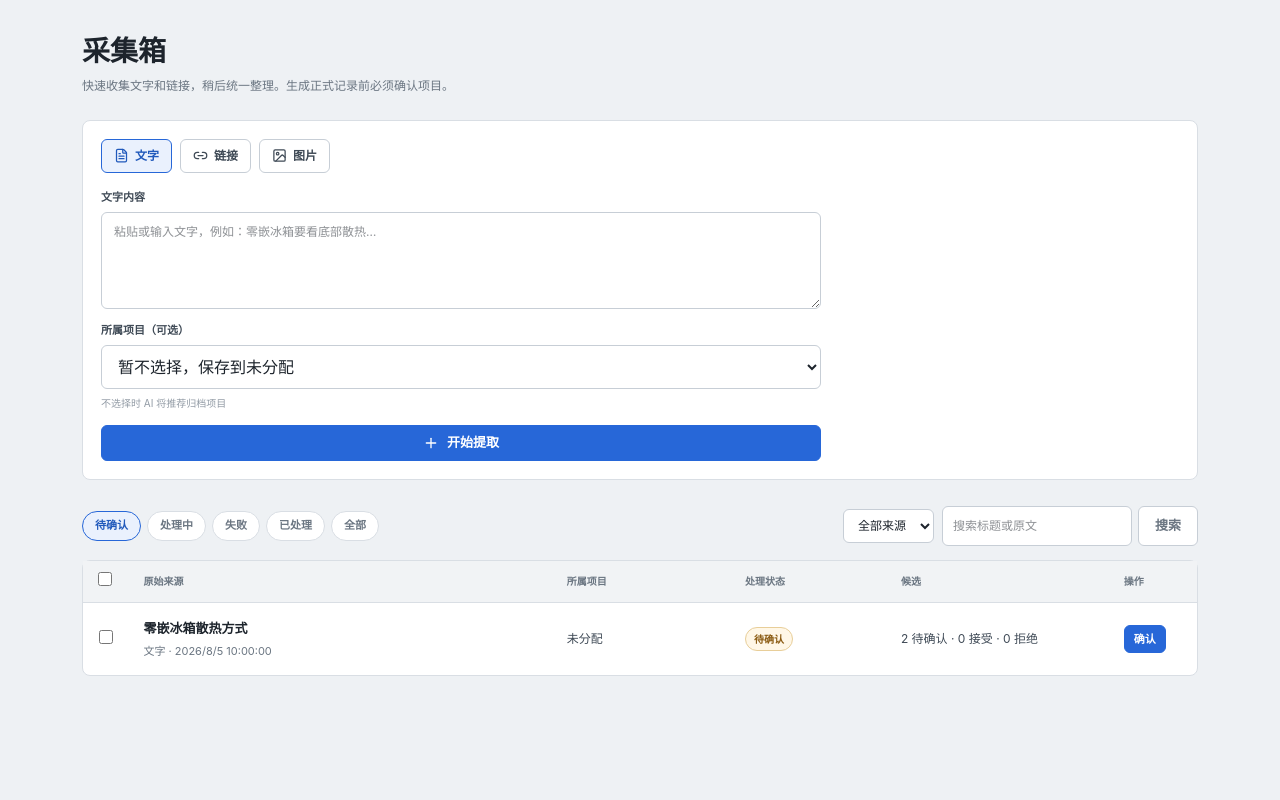
Test: InboxPage capture and queue › preserves input and shows an error when capture fails
In the text box with placeholder "粘贴或输入文字，例如：零嵌冰箱要看底部散热…": x=461, y=260 top-left (101, 212), bottom-right (821, 309), type "保留这段输入"
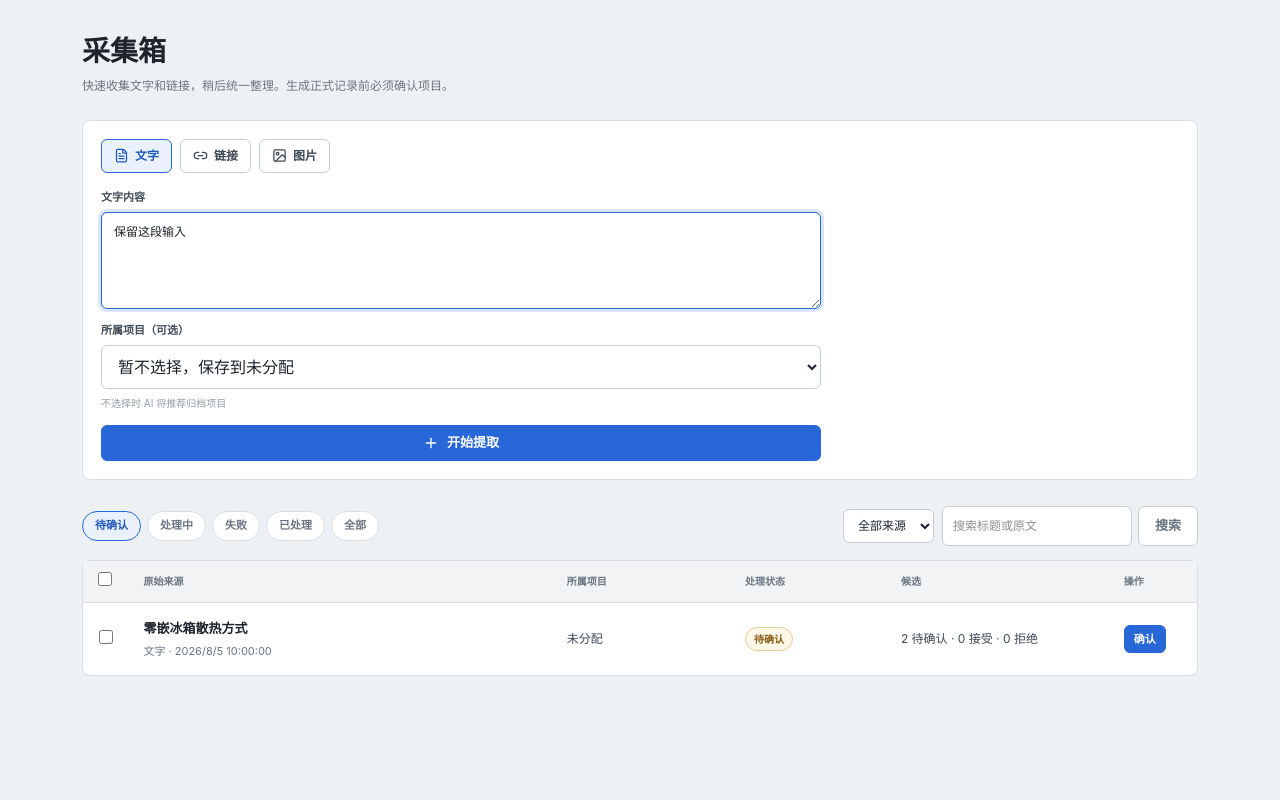
Click the button "开始提取": x=461, y=443 top-left (101, 425), bottom-right (821, 461)
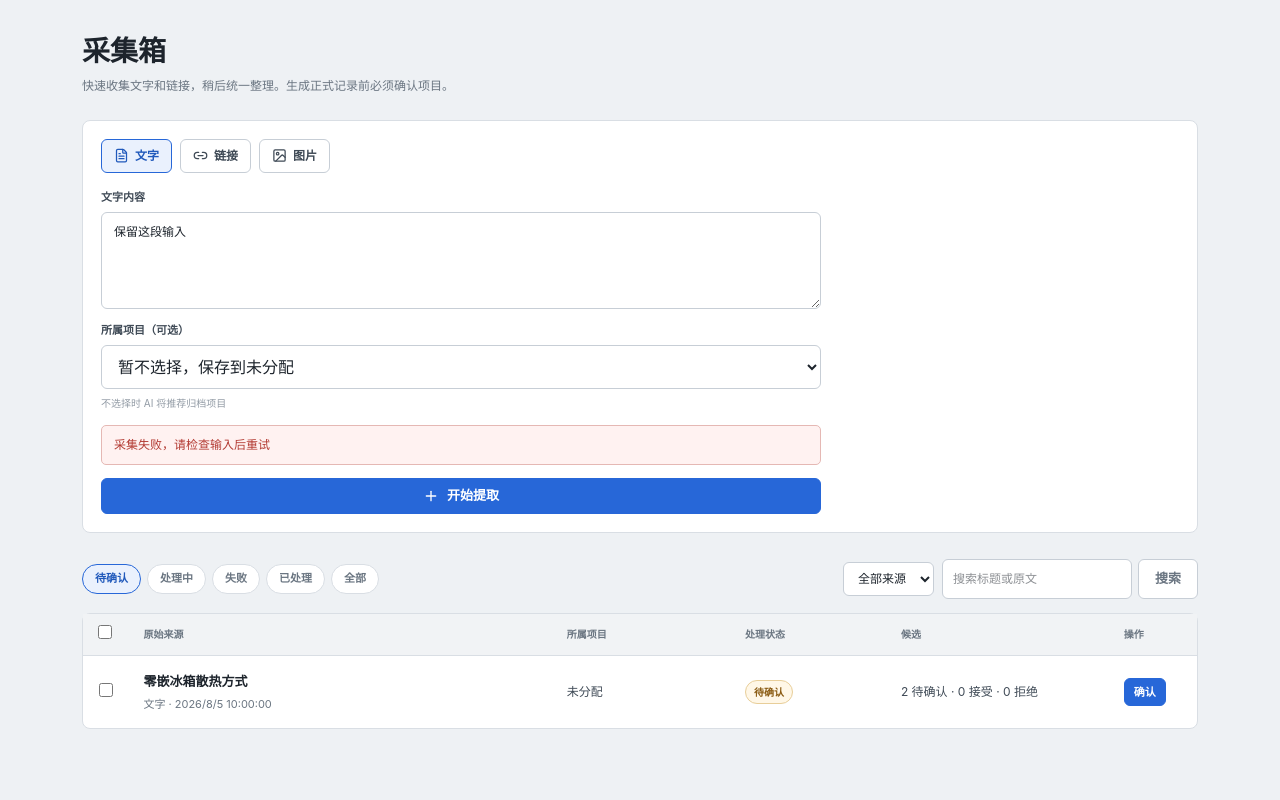
Check: the message shows "采集失败", box top-left (114, 437), bottom-right (270, 452)
